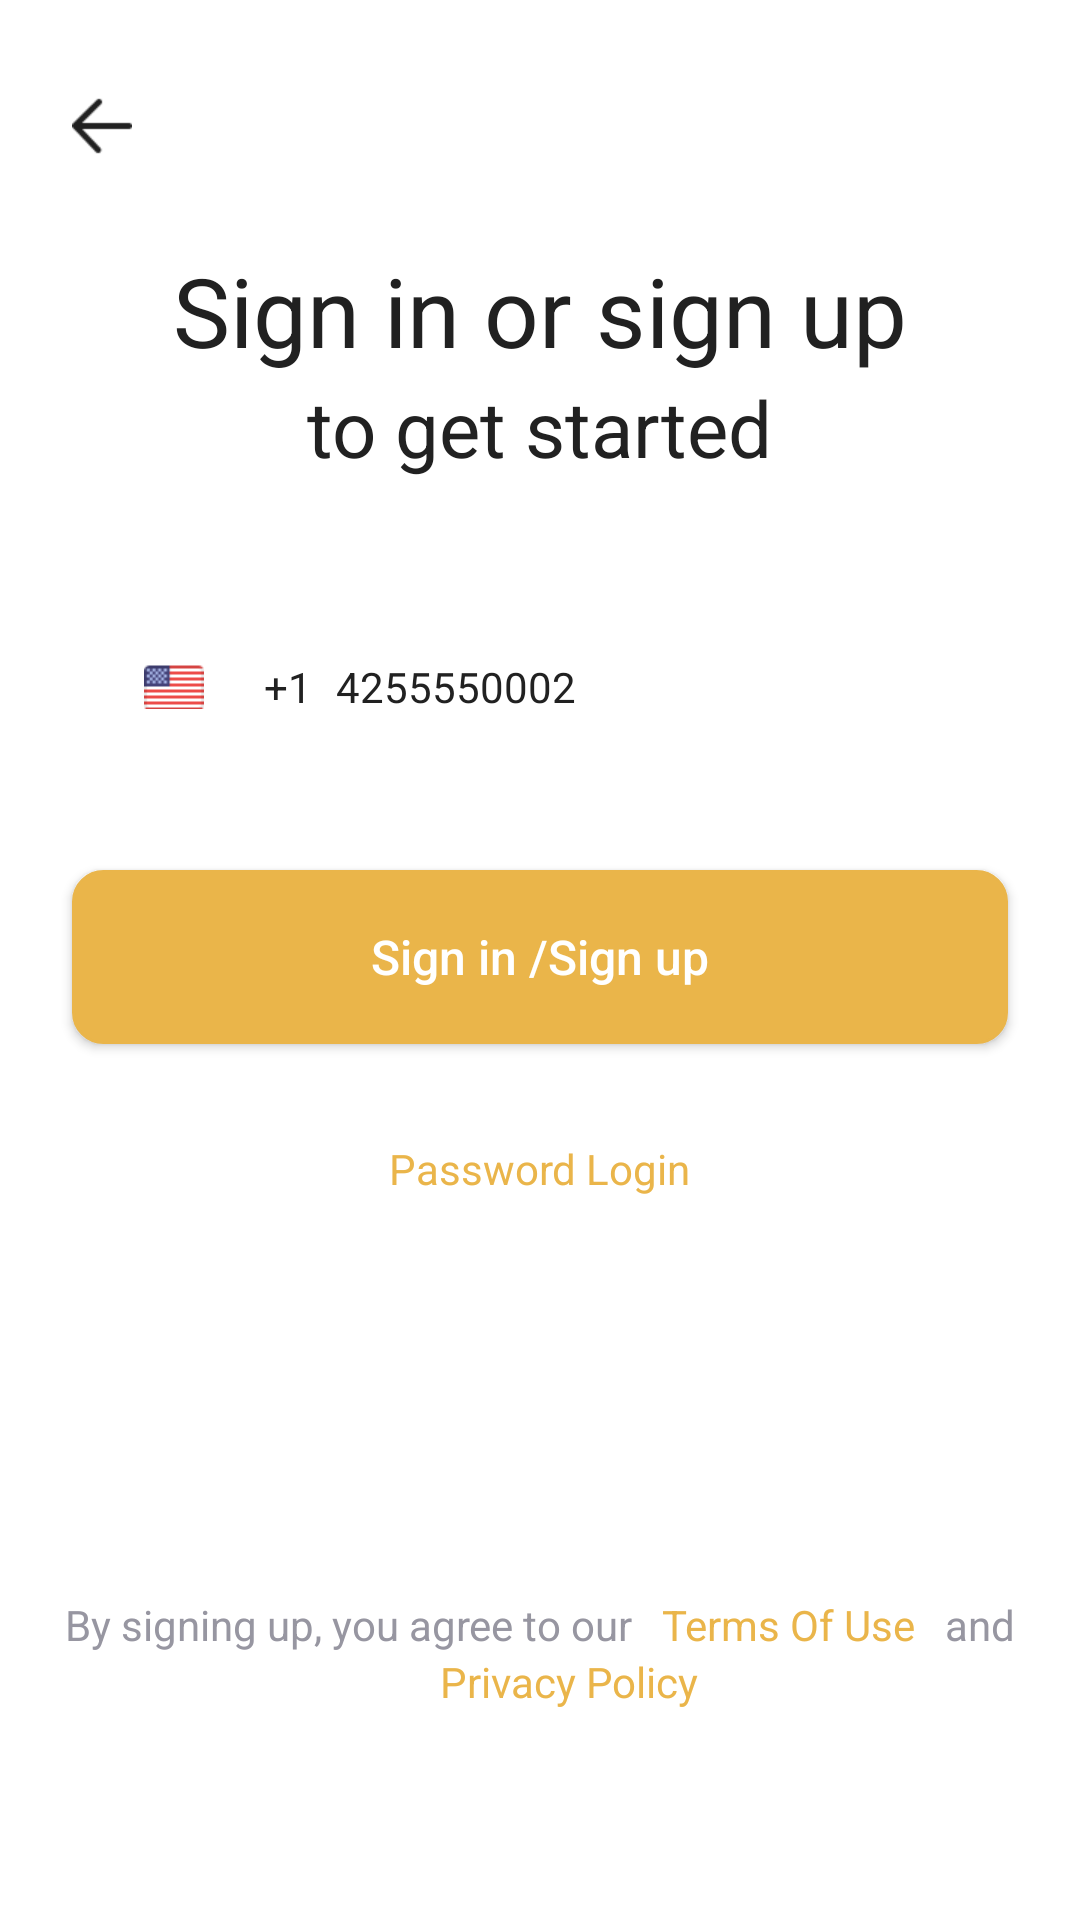

Where icons sit on this 1080×1920 app screen, as (x1, y1, x2, y2):
left back: (72, 98, 132, 154)
